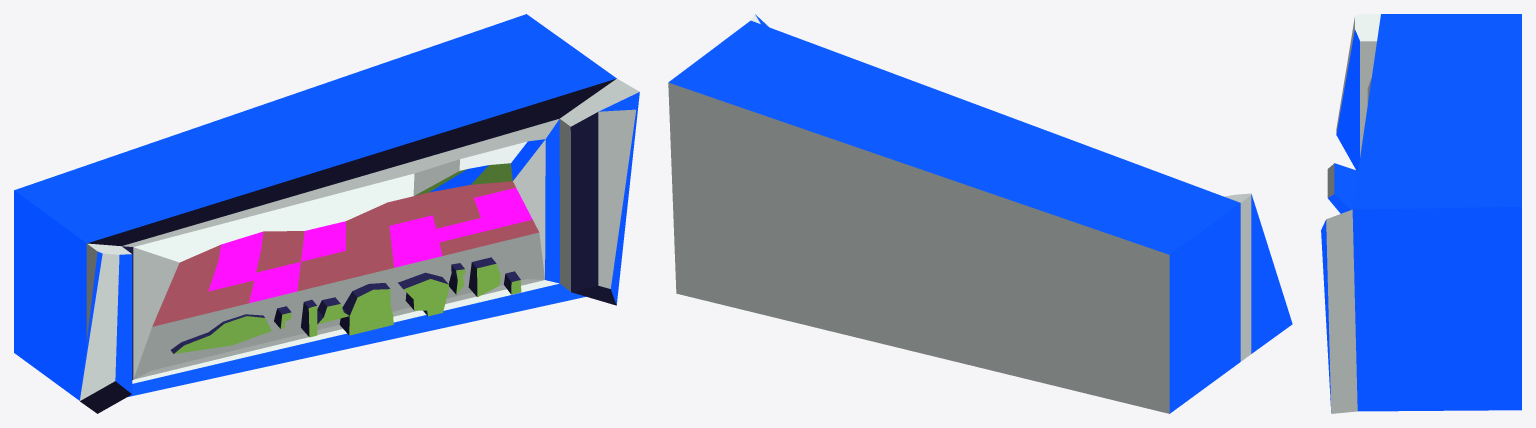
The model's file is buildinghorizont.fbx.
The picture shows the model from 3 angles, left to right: view 1: azimuth 30°, elevation 25°; view 2: azimuth 150°, elevation 25°; view 3: azimuth 270°, elevation 25°; orthographic projection. The views are drawn at different scales.
Parts seen in each view (by area): view 1: Cube; view 2: Cube; view 3: Cube.
Part boxes in pixels (bbox=[...]): Cube: bbox=[14, 14, 639, 413]; Cube: bbox=[668, 14, 1292, 413]; Cube: bbox=[1321, 14, 1521, 413].
Size of the model in its own units: 882 by 330 by 285.
